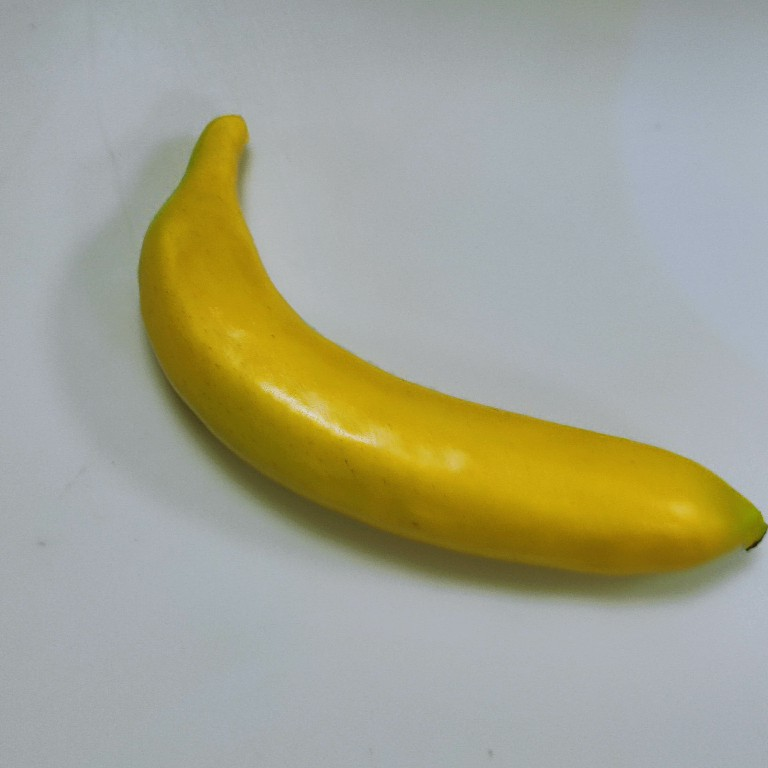fruit_banana: (133, 111, 768, 584)
